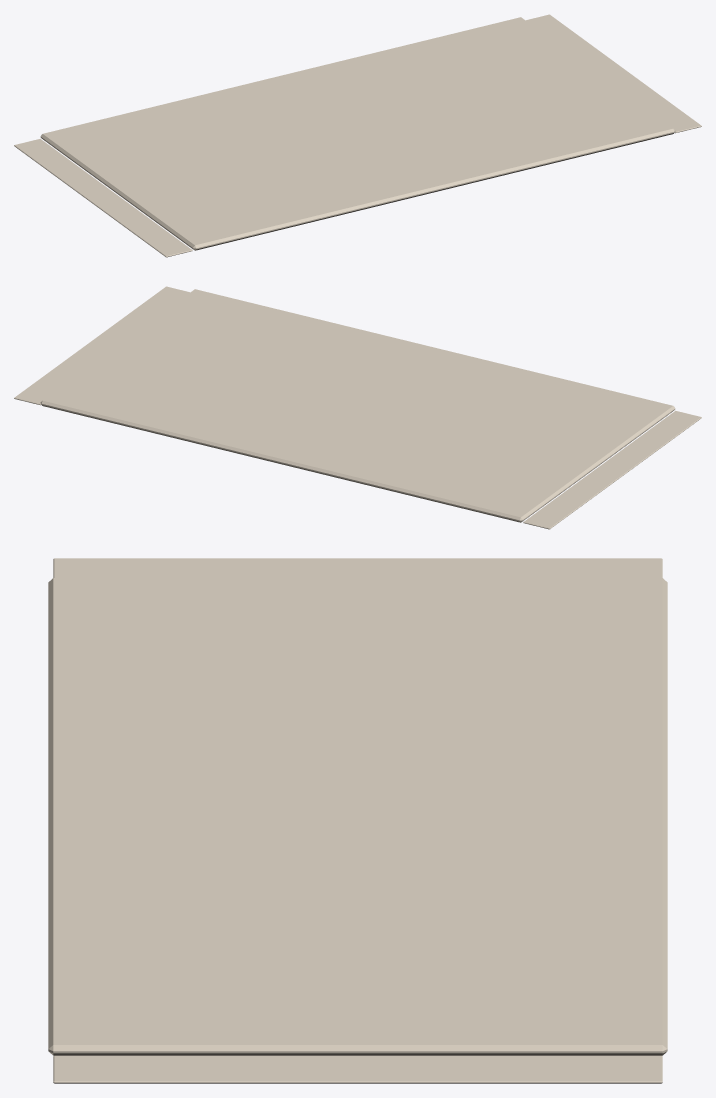
File: SM_VKI_Rug_300x150.fbx
3 views of the same model, one above another, from view 1: azimuth 30°, elevation 25°; view 2: azimuth 150°, elevation 25°; view 3: azimuth 270°, elevation 25° (orthographic). The views are drawn at different scales.
Visible parts, largest first — view 1: SM_VKI_Rug_300x150.001; view 2: SM_VKI_Rug_300x150.001; view 3: SM_VKI_Rug_300x150.001.
Boxes of the visible parts, x1,y1,x2,y2 form: SM_VKI_Rug_300x150.001: (14,14,701,257); SM_VKI_Rug_300x150.001: (14,286,701,529); SM_VKI_Rug_300x150.001: (48,558,667,1083).
Bounding box in the file's own units: 2.6 × 0.025 × 1.3.
